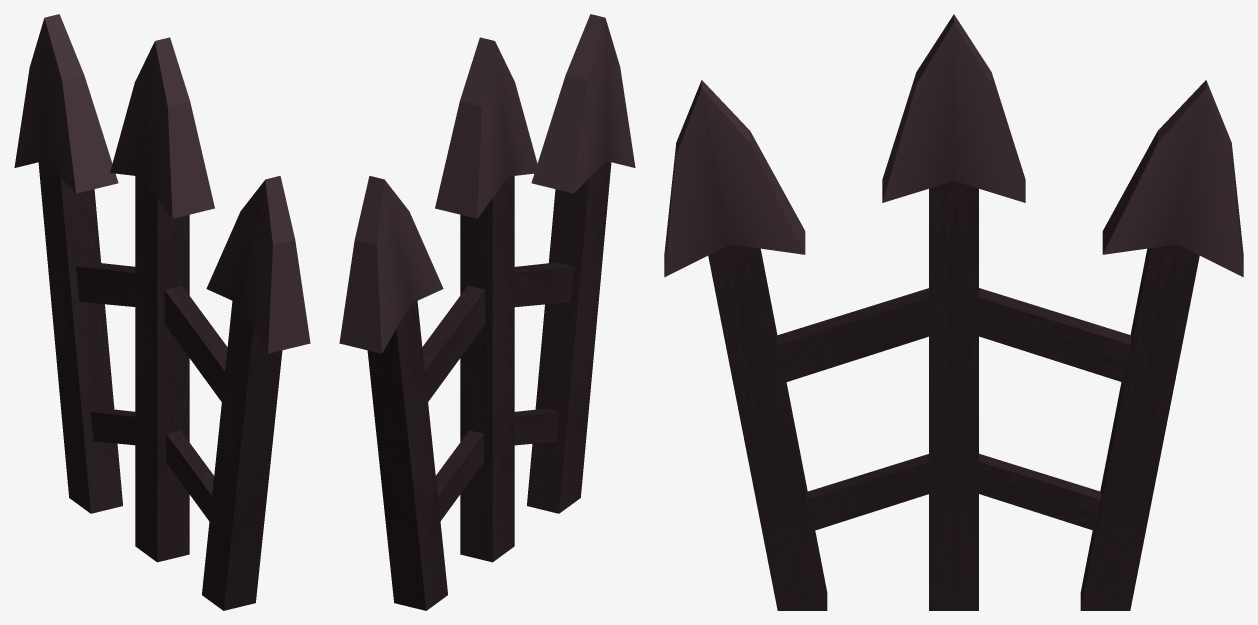
Rendered from F_Fence_1.fbx.
The picture shows the model from 3 angles, left to right: view 1: azimuth 30°, elevation 25°; view 2: azimuth 150°, elevation 25°; view 3: azimuth 270°, elevation 25°; orthographic projection. The views are drawn at different scales.
Parts seen in each view (by area): view 1: F_Fence; view 2: F_Fence; view 3: F_Fence.
Part boxes in pixels (x1,y1,x2,y2): F_Fence: [14, 14, 310, 610]; F_Fence: [339, 14, 635, 610]; F_Fence: [664, 14, 1243, 610].
Size of the model in its own units: 1.15 by 1.28 by 0.1109.
Materials: 1 (1 with a texture image).
